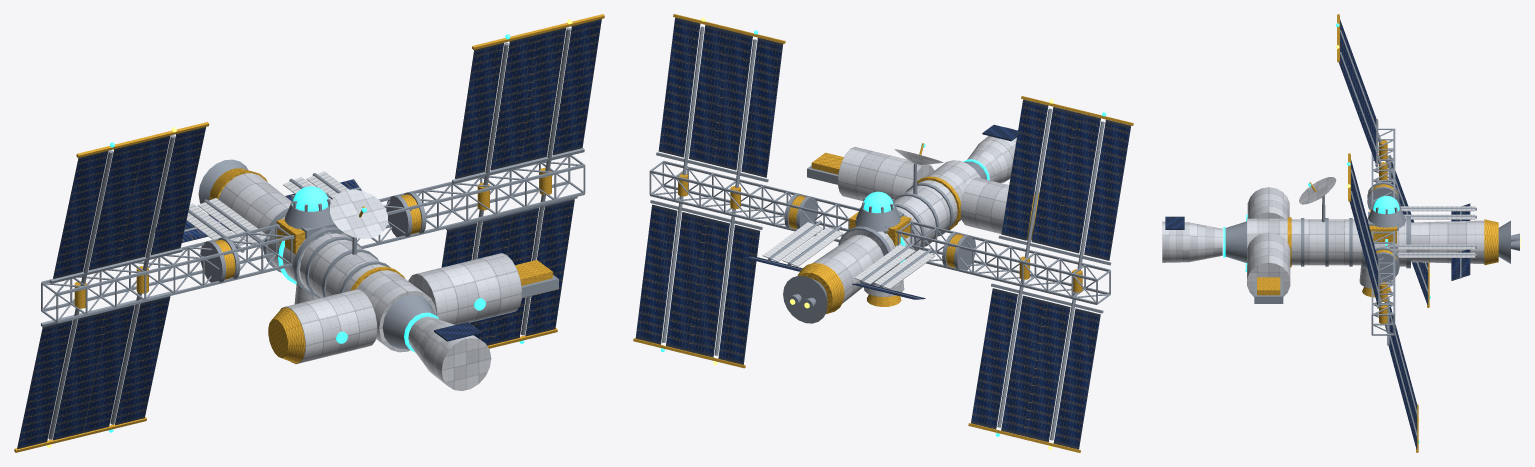
File: SpaceStation.glb
3 renders of one model, left to right at view 1: azimuth 30°, elevation 25°; view 2: azimuth 150°, elevation 25°; view 3: azimuth 270°, elevation 25°, orthographic. The views are drawn at different scales.
Visible parts, largest first — view 1: SpaceStationRoot; view 2: SpaceStationRoot; view 3: SpaceStationRoot.
Part boxes in pixels (left/top/right/bottom): SpaceStationRoot: left=14, top=14, right=604, bottom=452; SpaceStationRoot: left=633, top=14, right=1133, bottom=452; SpaceStationRoot: left=1162, top=14, right=1520, bottom=452.
Bounding box in the file's own units: 13.78 × 8.86 × 11.09.
7 materials, 4 textured.
